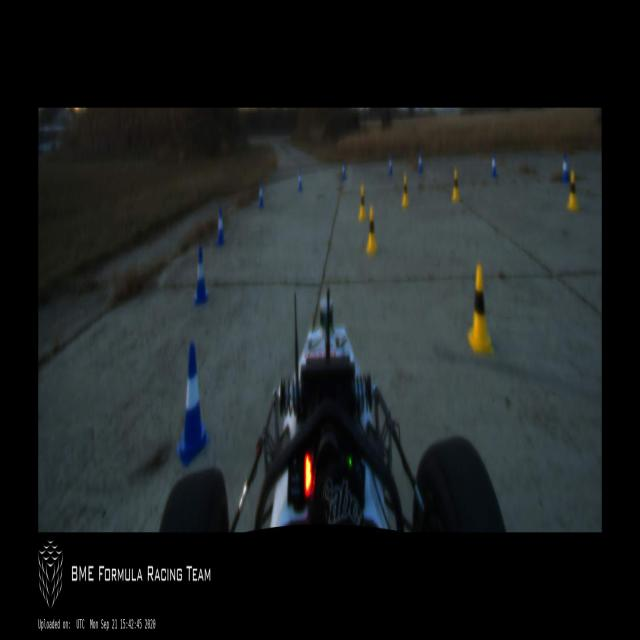blue_cone: (176, 342, 210, 468), (194, 244, 209, 306), (217, 208, 225, 246), (562, 154, 569, 181), (491, 154, 497, 177), (259, 182, 264, 208), (418, 152, 423, 173), (342, 162, 347, 181), (298, 169, 302, 192), (389, 157, 393, 175)
yellow_cone: (467, 264, 493, 354), (366, 206, 377, 255), (567, 170, 579, 211), (358, 184, 366, 220), (452, 168, 459, 202), (402, 175, 409, 207)
